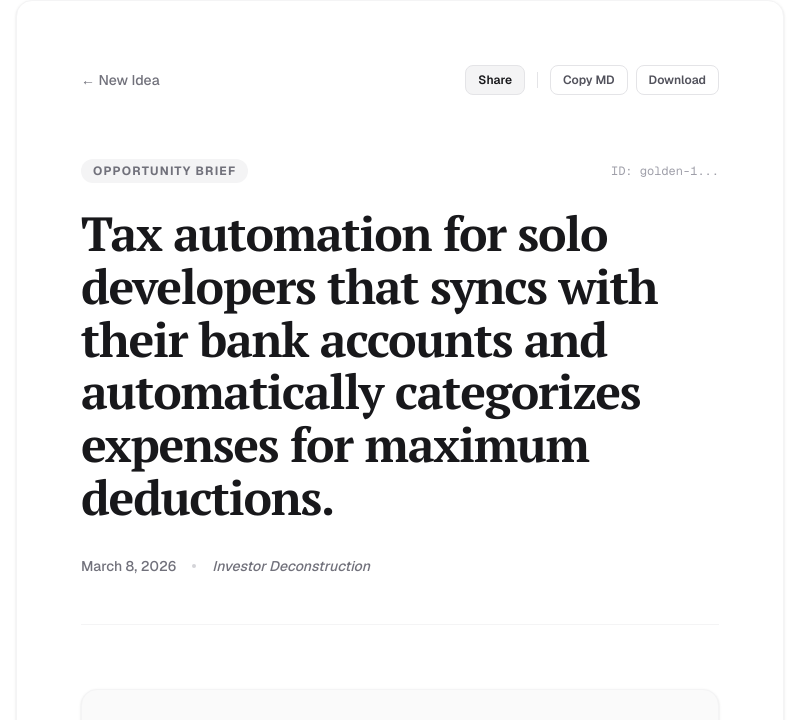
Test: ReportView › should copy shared link to clipboard when "Share" is clicked
The width and height of the screenshot is (801, 720).
Click the button "Share": (495, 80) [465,65,525,95]
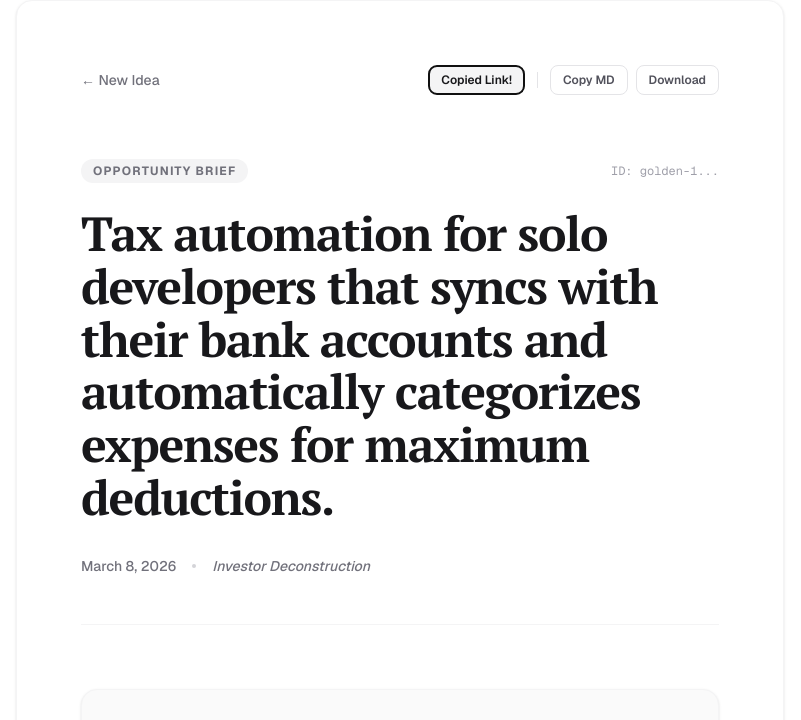
Expected: the button "Copied Link!" is shown, [428,65,525,95]
